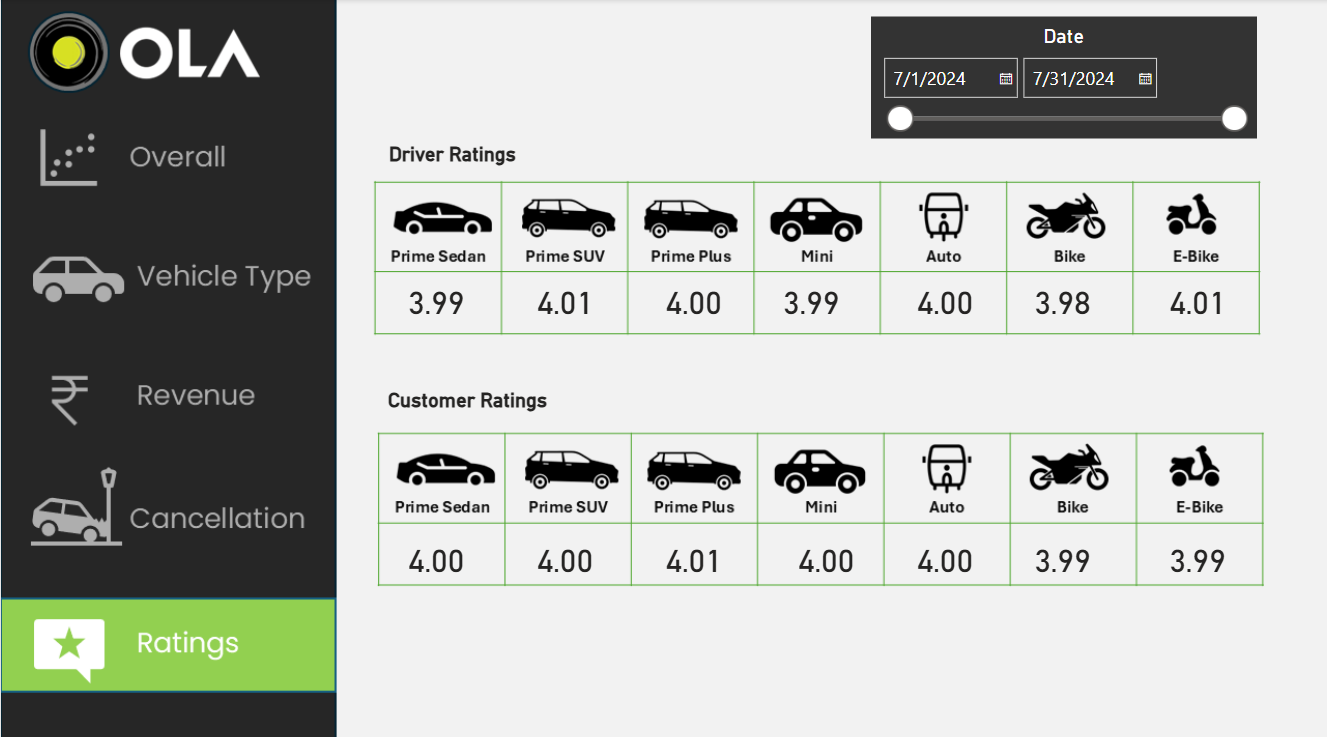

Layout of this report page (visuals, bound fields, positions):
{"tool":"powerbi","page":{"name":"Ratings","canvas":[1280,720],"ordinal":4},"visuals":[{"type":"card","fields":{"Values":["Avg(July.Driver_Ratings)"]},"box":[363.5,270.8,114,42.8],"z":0},{"type":"card","fields":{"Values":["Avg(July.Driver_Ratings)"]},"box":[487.5,270.8,114,42.8],"z":1000},{"type":"card","fields":{"Values":["Avg(July.Driver_Ratings)"]},"box":[611.5,270.8,114,42.8],"z":2000},{"type":"card","fields":{"Values":["Avg(July.Driver_Ratings)"]},"box":[725.5,270.8,114,42.8],"z":3000},{"type":"card","fields":{"Values":["Avg(July.Driver_Ratings)"]},"box":[853.8,270.8,114,42.8],"z":4000},{"type":"card","fields":{"Values":["Avg(July.Driver_Ratings)"]},"box":[967.8,270.8,114,42.8],"z":5000},{"type":"card","fields":{"Values":["Avg(July.Driver_Ratings)"]},"box":[1097.6,270.8,114,42.8],"z":6000},{"type":"card","fields":{"Values":["Avg(July.Customer_Rating)"]},"box":[363.5,518.8,114,42.8],"z":7000},{"type":"card","fields":{"Values":["Avg(July.Customer_Rating)"]},"box":[487.5,518.8,114,42.8],"z":8000},{"type":"card","fields":{"Values":["Avg(July.Customer_Rating)"]},"box":[611.5,518.8,114,42.8],"z":9000},{"type":"card","fields":{"Values":["Avg(July.Customer_Rating)"]},"box":[739.8,518.8,114,42.8],"z":10000},{"type":"card","fields":{"Values":["Avg(July.Customer_Rating)"]},"box":[853.8,518.8,114,42.8],"z":11000},{"type":"card","fields":{"Values":["Avg(July.Customer_Rating)"]},"box":[967.8,518.8,114,42.8],"z":12000},{"type":"card","fields":{"Values":["Avg(July.Customer_Rating)"]},"box":[1097.6,518.8,114,42.8],"z":13000},{"type":"textbox","box":[326.4,372,246.6,42.8],"z":14000},{"type":"textbox","box":[336.4,134,198.1,42.8],"z":15000},{"type":"slicer","title":"Date","fields":{"Values":["July.Date"]},"box":[839.6,17.1,372,116.9],"z":16000},{"type":"actionButton","box":[0,111.2,326.4,86.9],"z":17000},{"type":"actionButton","box":[0,230.9,326.4,86.9],"z":18000},{"type":"actionButton","box":[0,332.1,326.4,86.9],"z":19000},{"type":"actionButton","box":[0,453.3,326.4,86.9],"z":20000}]}

Visuals, with their boxes on the page's 1280x720 design canvas (x1, y1, x2, y2). These are canvas units, not pixel positions in the 1327x737 screenshot, which may show the page scaled, cropped or inside an application window:
card - Avg(July.Driver_Ratings): (left=364, top=271, right=478, bottom=314)
card - Avg(July.Driver_Ratings): (left=488, top=271, right=602, bottom=314)
card - Avg(July.Driver_Ratings): (left=612, top=271, right=726, bottom=314)
card - Avg(July.Driver_Ratings): (left=726, top=271, right=840, bottom=314)
card - Avg(July.Driver_Ratings): (left=854, top=271, right=968, bottom=314)
card - Avg(July.Driver_Ratings): (left=968, top=271, right=1082, bottom=314)
card - Avg(July.Driver_Ratings): (left=1098, top=271, right=1212, bottom=314)
card - Avg(July.Customer_Rating): (left=364, top=519, right=478, bottom=562)
card - Avg(July.Customer_Rating): (left=488, top=519, right=602, bottom=562)
card - Avg(July.Customer_Rating): (left=612, top=519, right=726, bottom=562)
card - Avg(July.Customer_Rating): (left=740, top=519, right=854, bottom=562)
card - Avg(July.Customer_Rating): (left=854, top=519, right=968, bottom=562)
card - Avg(July.Customer_Rating): (left=968, top=519, right=1082, bottom=562)
card - Avg(July.Customer_Rating): (left=1098, top=519, right=1212, bottom=562)
textbox: (left=326, top=372, right=573, bottom=415)
textbox: (left=336, top=134, right=534, bottom=177)
"Date" slicer: (left=840, top=17, right=1212, bottom=134)
actionButton: (left=0, top=111, right=326, bottom=198)
actionButton: (left=0, top=231, right=326, bottom=318)
actionButton: (left=0, top=332, right=326, bottom=419)
actionButton: (left=0, top=453, right=326, bottom=540)
